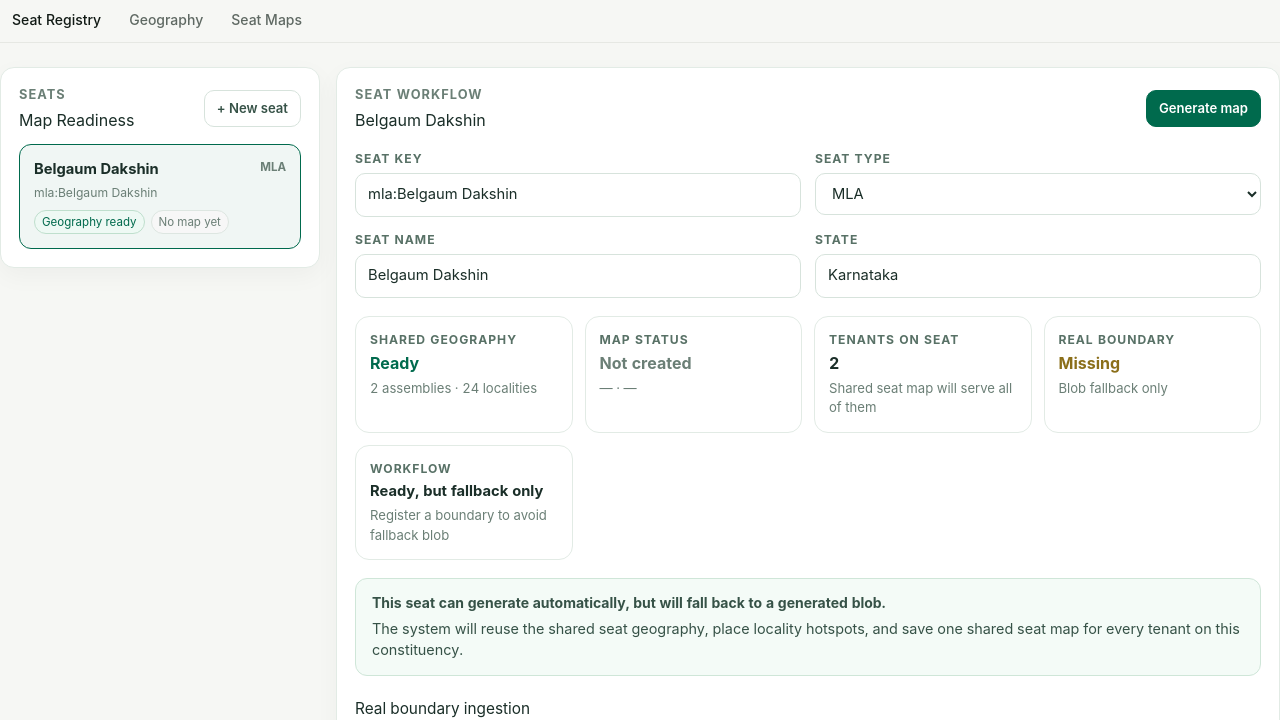
it: Admin seat maps workflow page › loads seat workflow and generates a map in one click
Expected: the field showing "Belgaum Dakshin" below "Seat Name" is shown, [355,254,801,298]
Expected: the text "Ready, but fallback only" is shown, [370,481,558,502]
Click the button "Generate map" at point(1204, 109), box [1146,90,1261,127]
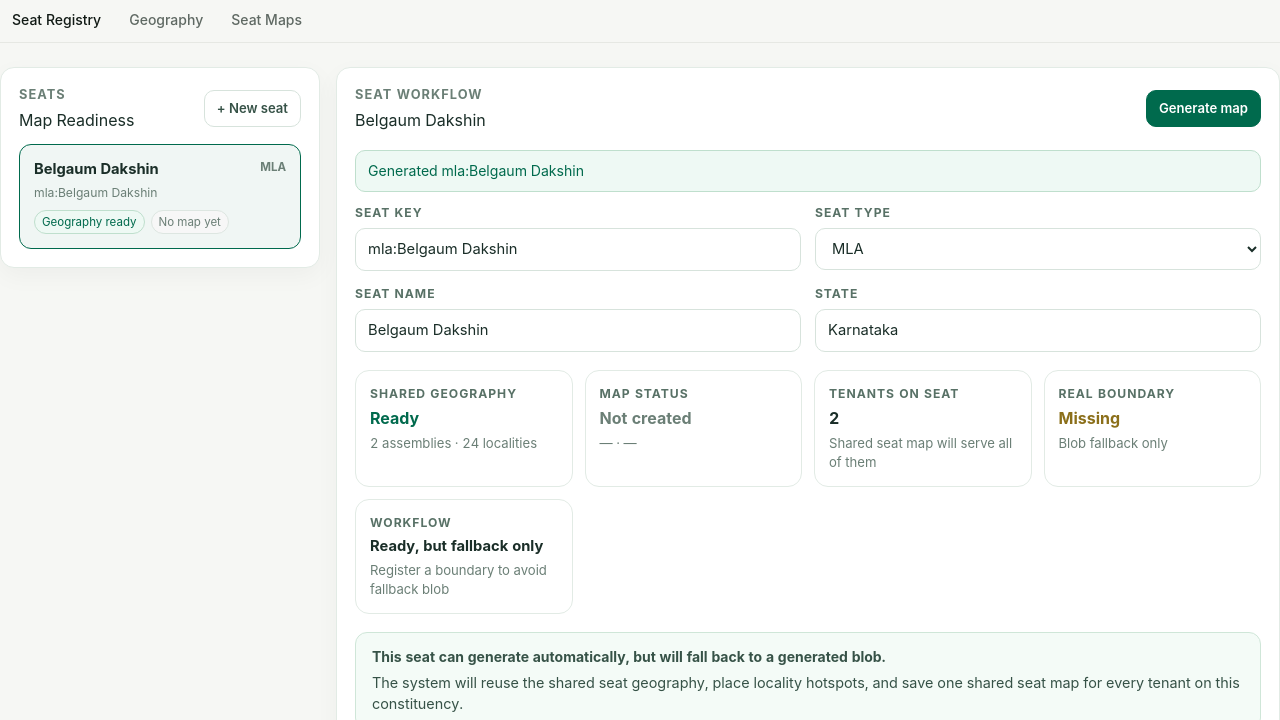
Result: the text "Generated mla:Belgaum Dakshin" is shown at [355,150,1261,192]
